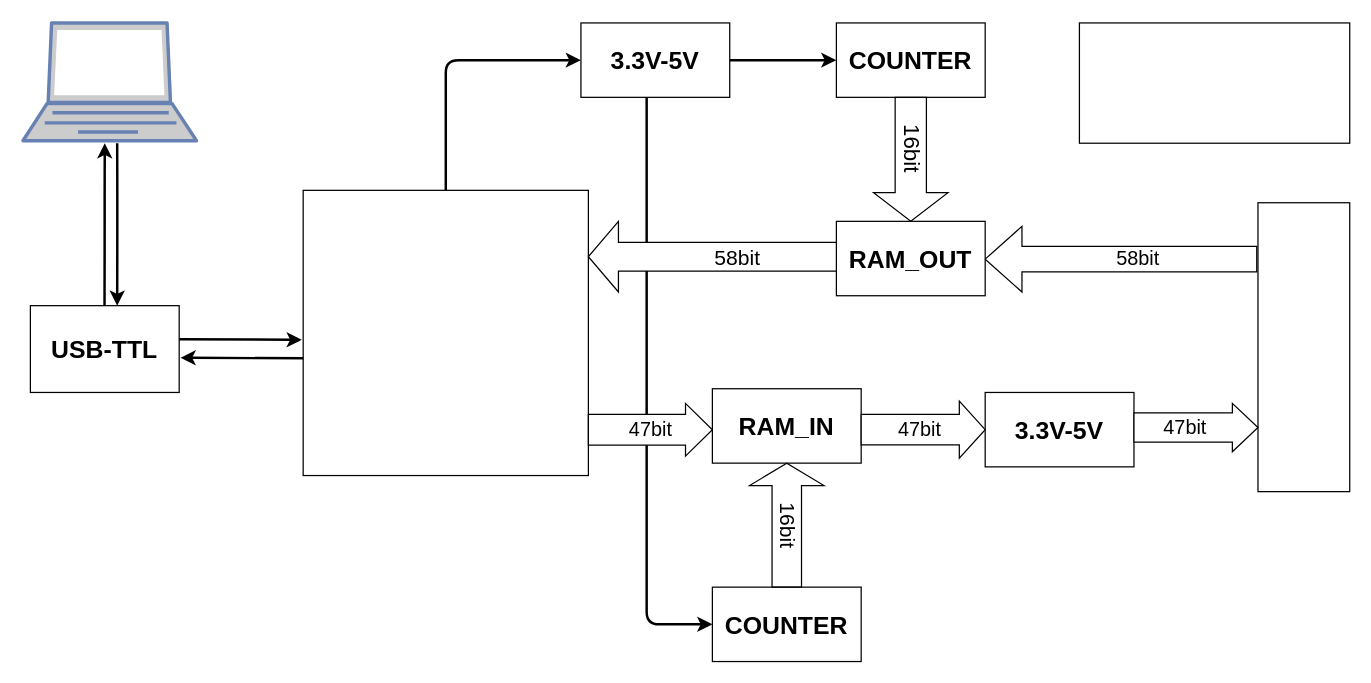
This 1371x683 diagram has some shape labels left out. Here are the shapes that lost their labels. From the top down, the box of each, then its label:
(21, 21, 197, 141): Laptop
(1078, 22, 1350, 143): POWER SUPPLY
(302, 189, 588, 476): FPGA Spartan 6
(1257, 202, 1350, 492): MẠCH KIỂM TRA
